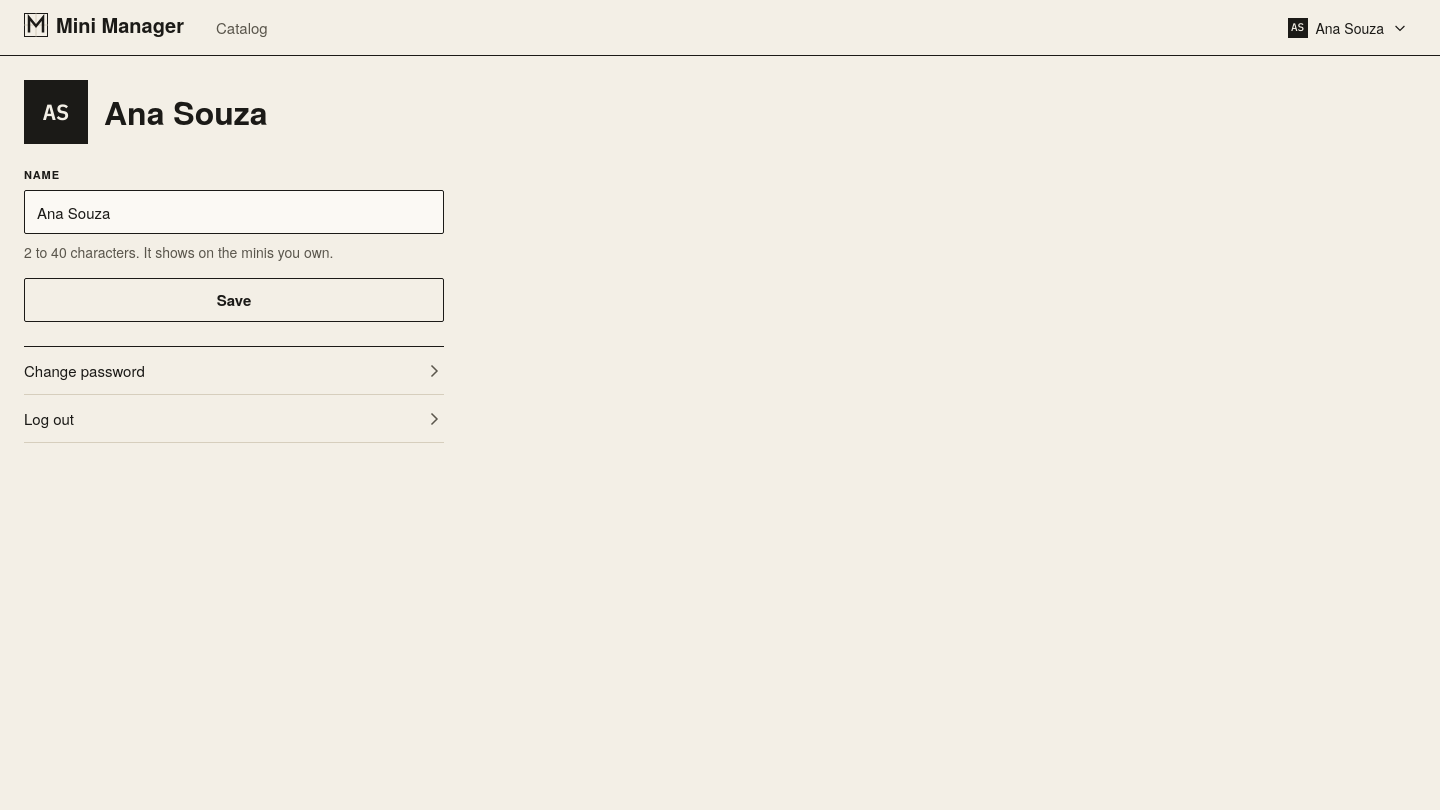
it: ProfilePage › card 2 rule 6: shows my name and logs out from the Log out row
expect the heading "Ana Souza" is shown: met, box [104,94,268,130]
Click the button "Log out" at [49, 418], box [24,395,444,443]
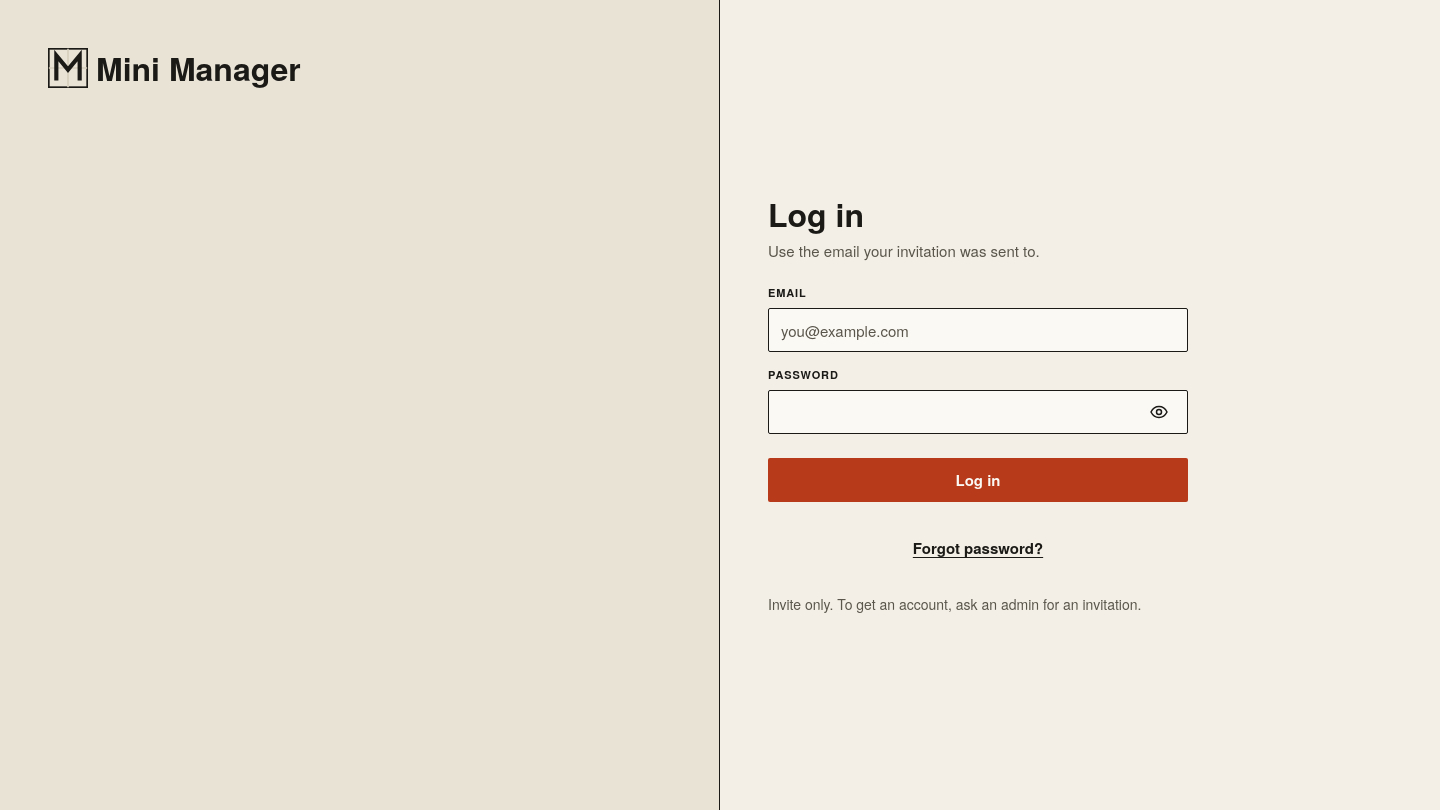
expect the heading "Log in" is shown: met, box [768,191,864,237]
